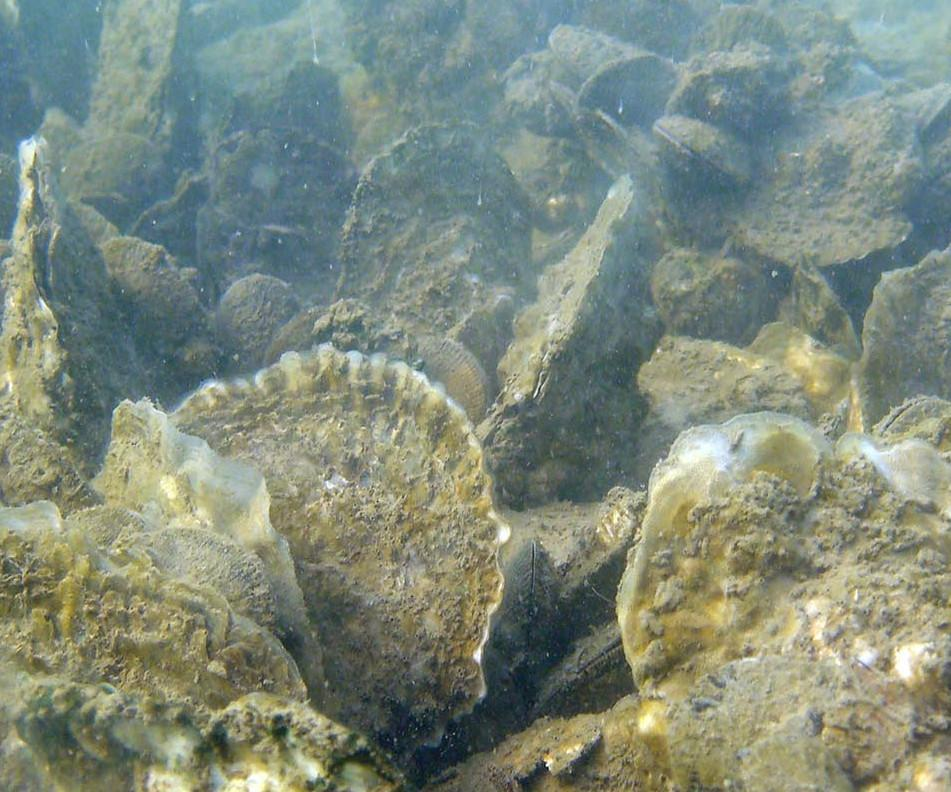3: (74, 191, 141, 244), (875, 396, 951, 438)
Oyster-Closed: (479, 175, 666, 508), (3, 135, 160, 482), (89, 0, 185, 182), (535, 622, 629, 716), (495, 541, 565, 666), (654, 116, 751, 192)
Oyster-Open: (166, 348, 514, 761), (617, 412, 951, 792), (0, 505, 308, 792), (333, 118, 536, 381), (21, 681, 412, 792), (724, 104, 919, 265), (197, 123, 359, 312), (667, 659, 842, 792), (95, 236, 223, 412), (861, 248, 951, 435), (114, 527, 276, 629), (642, 337, 815, 432), (653, 250, 783, 347), (826, 679, 918, 778), (672, 59, 776, 142), (217, 274, 299, 378), (746, 718, 860, 792), (787, 256, 861, 358), (576, 53, 679, 126), (856, 731, 951, 792), (547, 23, 648, 77), (282, 62, 348, 140), (899, 638, 951, 736), (690, 8, 785, 57), (65, 506, 159, 539)
